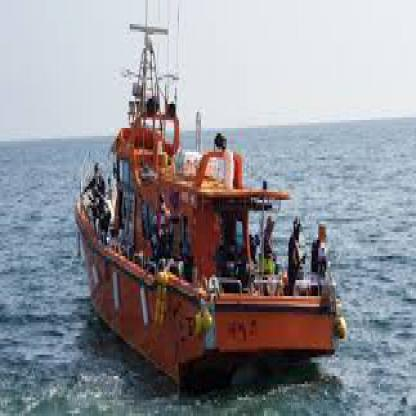fish-b: (67, 0, 350, 406)
